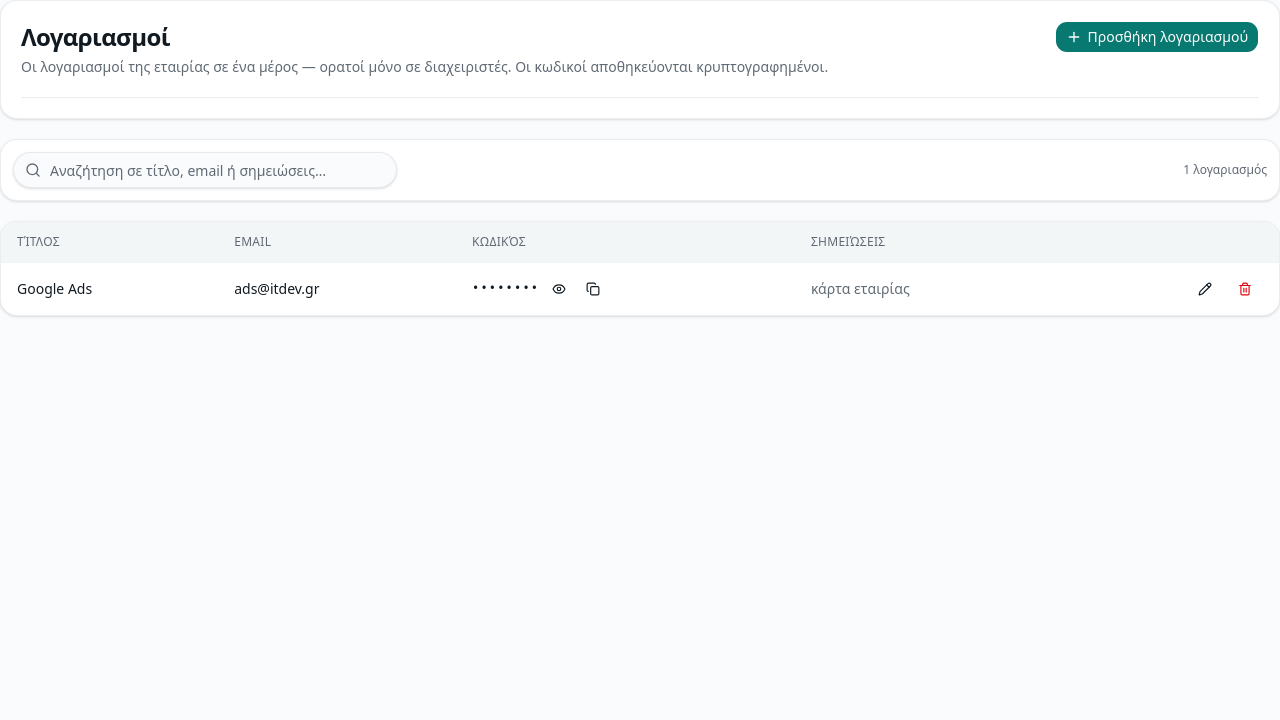
Test: AccountsPage › refuses to save without a title
What coordinates should you click on to do the following:
click the button "Προσθήκη λογαριασμού"
I would click on:
 (1157, 37)
Its box is x1=1055 y1=21 x2=1259 y2=53.
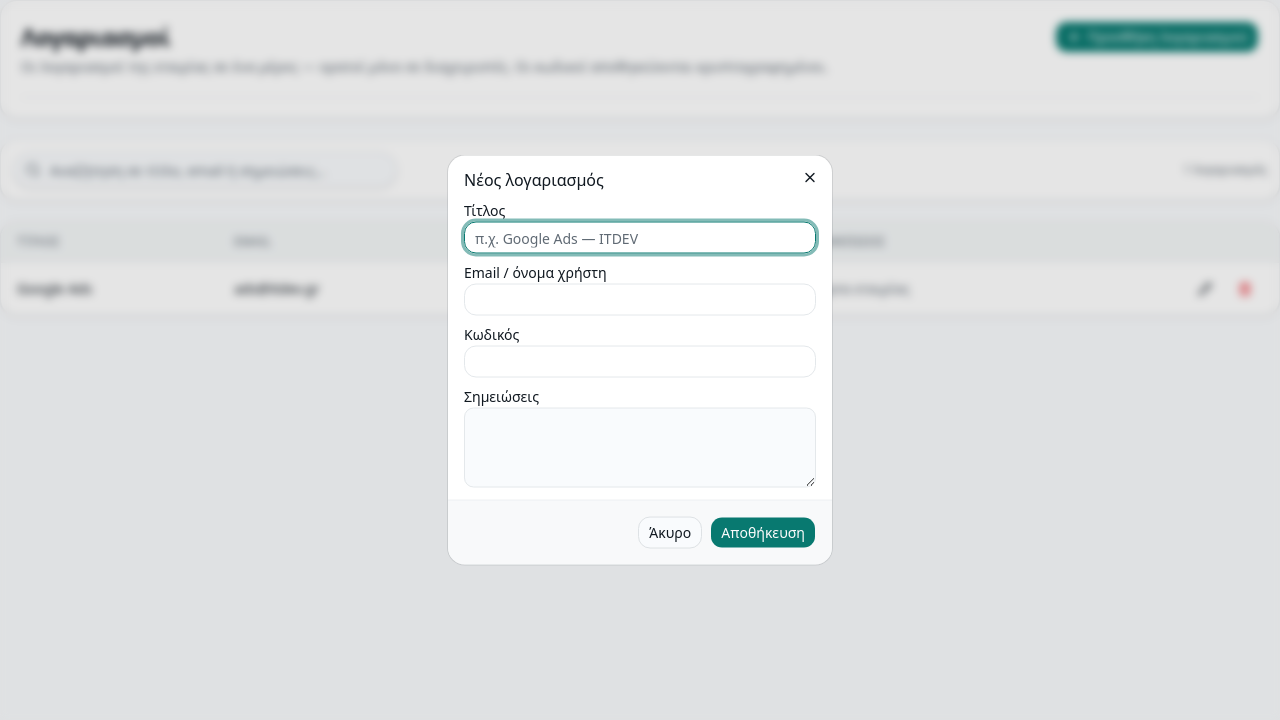
What coordinates should you click on to do the following:
click the button "Αποθήκευση"
I would click on:
 (763, 532)
Its box is x1=710 y1=516 x2=816 y2=548.
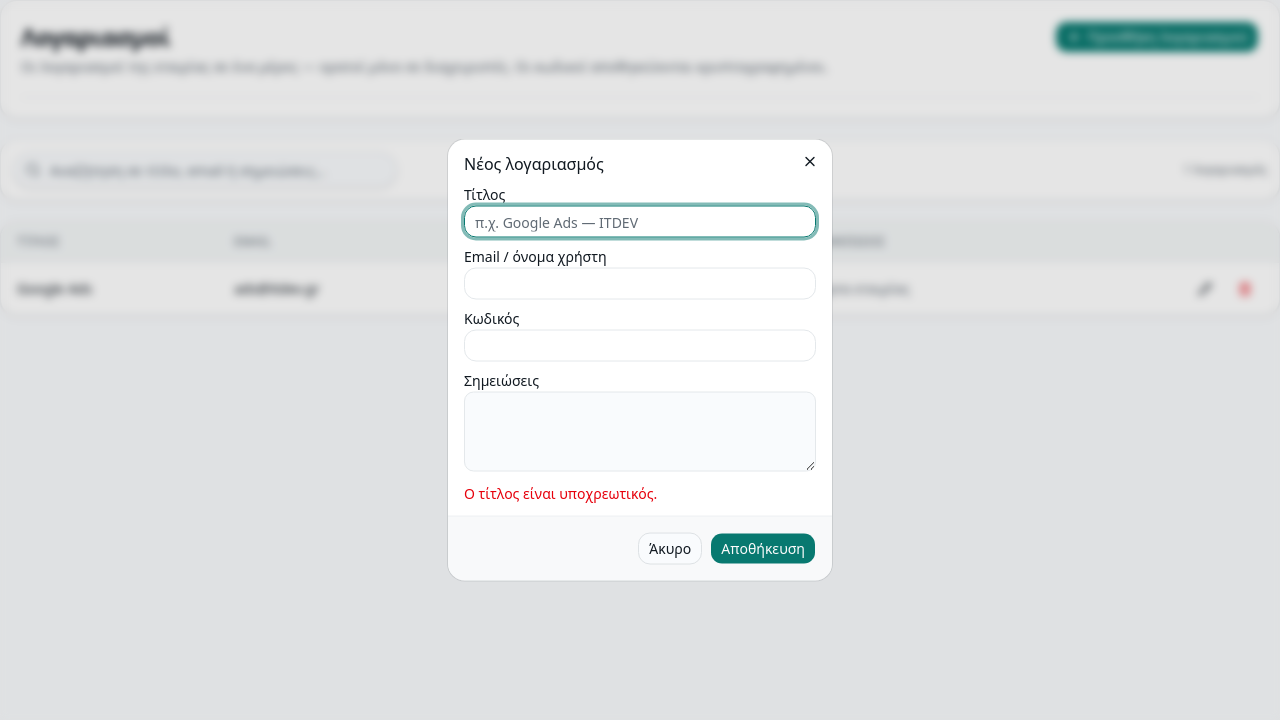
Expected: the text "Ο τίτλος είναι υποχρεωτικός." is shown, x1=464 y1=484 x2=657 y2=502
